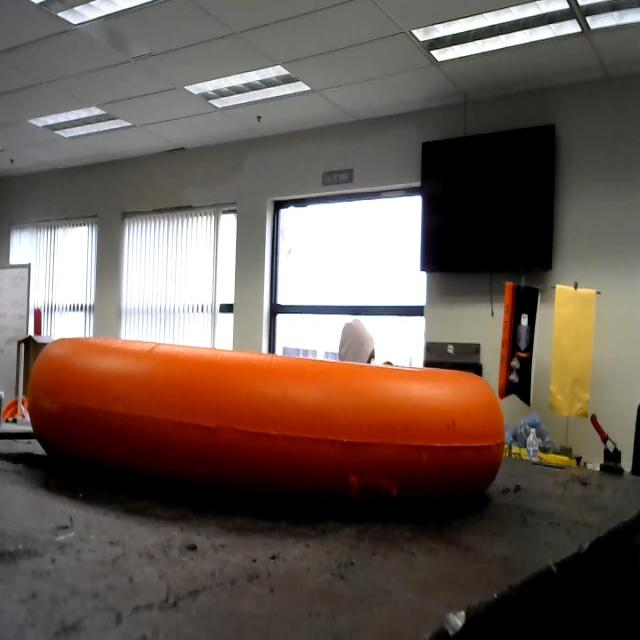note: (32, 314, 519, 549)
